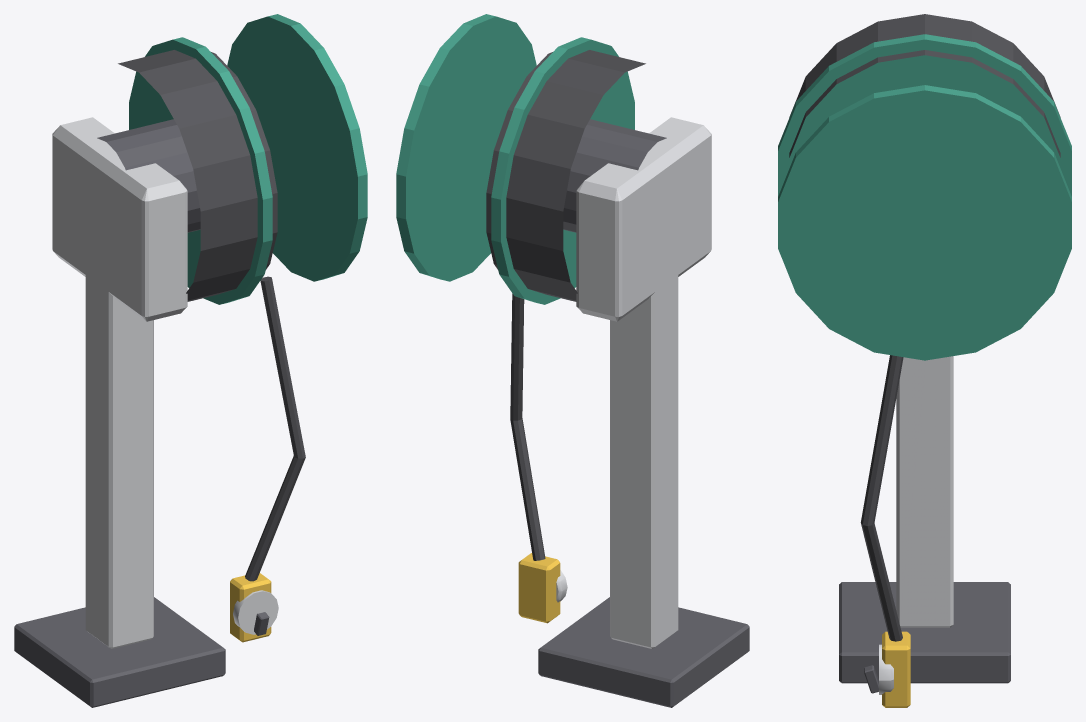
The model's file is petrol-station-and-forecourt-shop-air-line-reel-2a607dc9__33991.glb.
3 views of the same model, side by side, from view 1: azimuth 30°, elevation 25°; view 2: azimuth 150°, elevation 25°; view 3: azimuth 270°, elevation 25° (orthographic). The views are drawn at different scales.
Parts seen in each view (by area): view 1: air-line-reel, reel-drum/accent, reel-drum/rubber, reel-drum/dark; view 2: air-line-reel, reel-drum/accent, reel-drum/rubber, reel-drum/dark; view 3: reel-drum/accent, air-line-reel, reel-drum/rubber.
Boxes of the visible parts, x1,y1,x2,y2 form: air-line-reel: [14, 117, 305, 707]; reel-drum/accent: [129, 14, 367, 304]; reel-drum/rubber: [118, 50, 277, 301]; reel-drum/dark: [97, 119, 200, 232]; air-line-reel: [510, 117, 749, 707]; reel-drum/accent: [396, 14, 634, 304]; reel-drum/rubber: [486, 50, 645, 301]; reel-drum/dark: [563, 119, 666, 232]; reel-drum/accent: [778, 34, 1071, 360]; air-line-reel: [839, 355, 1010, 707]; reel-drum/rubber: [789, 14, 1060, 157].
Size of the model in its own units: 0.55 by 1.26 by 0.5121.
